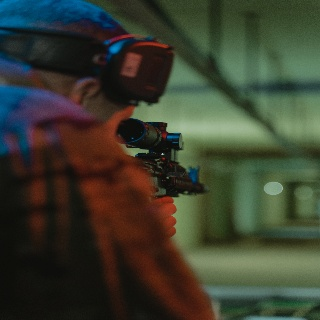rifle: (115, 116, 212, 201)
